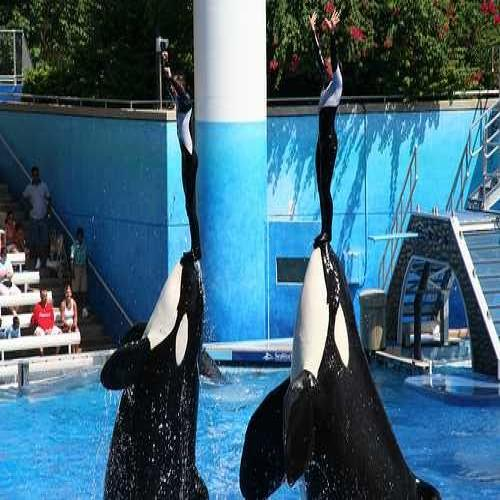killer_whale-endangered: (256, 232, 446, 500), (87, 240, 227, 500)
